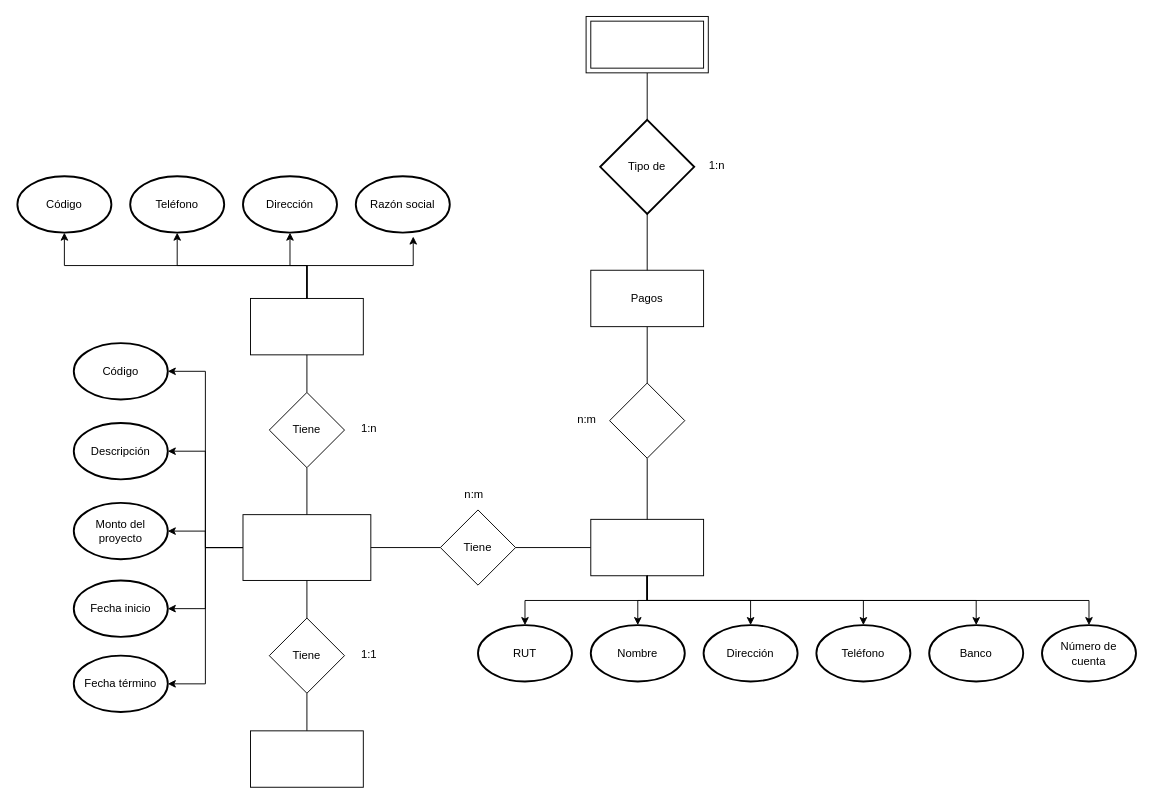
The diagram is 1152 pixels wide and 804 high, and some of its shapes have lost their labels. Here are the shapes that lost their labels. From the top down, the centre of each, then its label:
At (x=646, y=44): "Tipos de pago".
At (x=306, y=326): "Clientes".
At (x=647, y=420): "Reciben".
At (x=306, y=547): "Proyectos".
At (x=647, y=547): "Colaboradores".
At (x=306, y=758): "Contrato".
